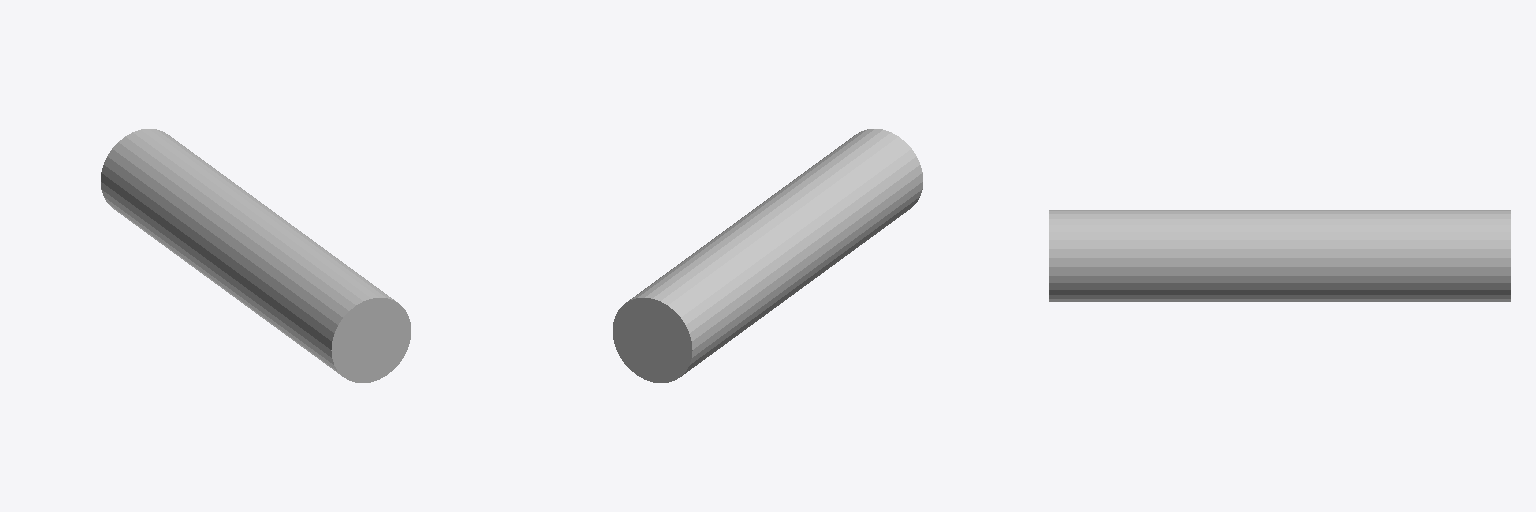
The model's file is lazer.obj.
3 renders of one model, left to right at view 1: azimuth 30°, elevation 25°; view 2: azimuth 150°, elevation 25°; view 3: azimuth 270°, elevation 25°, orthographic.
Parts seen in each view (by area): view 1: Cylinder_Cylinder.003; view 2: Cylinder_Cylinder.003; view 3: Cylinder_Cylinder.003.
Boxes of the visible parts, x1=… form: Cylinder_Cylinder.003: x1=101, y1=129, x2=410, y2=382; Cylinder_Cylinder.003: x1=613, y1=129, x2=922, y2=382; Cylinder_Cylinder.003: x1=1049, y1=210, x2=1510, y2=301.
Bounding box in the file's own units: 0.5523 × 0.5523 × 2.76.